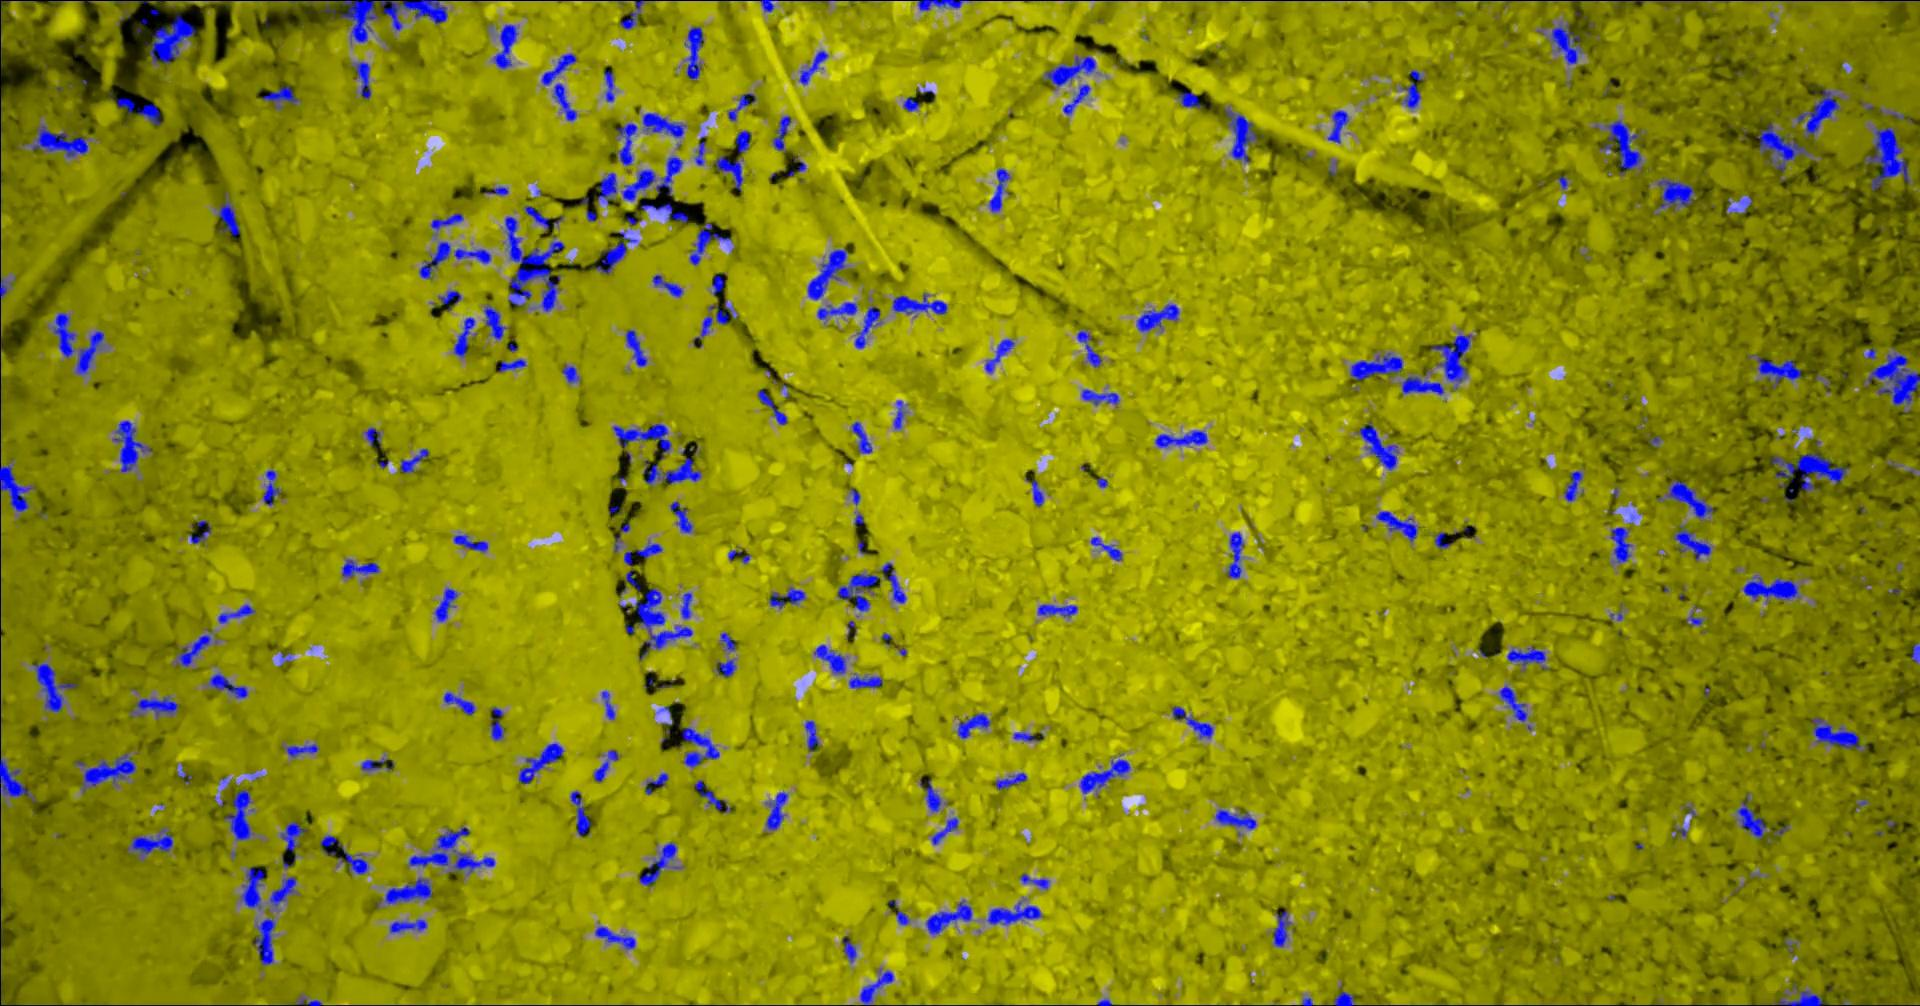ant: (1756, 121, 1810, 171), (418, 241, 490, 278), (72, 753, 135, 793), (541, 53, 577, 119), (1600, 119, 1641, 175), (1430, 334, 1470, 389), (32, 663, 77, 711), (1657, 479, 1713, 518), (1796, 88, 1839, 138), (692, 300, 737, 347), (612, 423, 670, 459), (808, 248, 848, 298), (1357, 420, 1398, 470), (112, 420, 151, 471), (637, 841, 681, 887), (1079, 754, 1130, 793), (1811, 716, 1867, 751), (30, 124, 88, 158), (690, 222, 731, 265), (596, 230, 637, 273), (0, 752, 36, 801), (518, 743, 563, 782), (1224, 108, 1256, 163), (1044, 56, 1095, 89), (837, 573, 880, 611), (0, 464, 34, 511), (924, 899, 971, 934), (643, 456, 700, 484), (681, 727, 719, 767), (223, 789, 253, 840), (1756, 354, 1801, 387), (1350, 352, 1402, 380), (1742, 575, 1799, 601), (1735, 793, 1766, 838), (985, 901, 1043, 925), (1672, 525, 1710, 560), (380, 876, 430, 903), (1171, 706, 1213, 738), (1375, 511, 1418, 541), (1550, 23, 1582, 64), (1656, 177, 1697, 208), (116, 97, 161, 124), (891, 293, 947, 316), (126, 828, 171, 856), (174, 631, 211, 666), (858, 968, 893, 1005), (491, 24, 518, 69), (1137, 304, 1178, 332), (693, 780, 730, 812), (253, 917, 276, 965), (621, 169, 655, 201), (984, 338, 1015, 373), (1498, 685, 1528, 721), (643, 112, 684, 137), (855, 306, 880, 348), (1506, 645, 1549, 669), (712, 155, 742, 191), (757, 389, 786, 424), (684, 25, 703, 79), (881, 561, 905, 603), (657, 156, 682, 196), (208, 673, 248, 699), (1215, 809, 1255, 835), (130, 696, 178, 716), (988, 166, 1010, 211), (799, 50, 827, 84), (240, 868, 263, 909), (640, 202, 687, 222), (1399, 69, 1423, 108), (1076, 330, 1101, 367), (594, 926, 635, 949), (813, 644, 844, 673), (615, 123, 636, 165), (570, 791, 590, 836), (338, 845, 368, 874), (1154, 431, 1208, 447), (216, 197, 239, 235), (764, 791, 787, 829), (1770, 989, 1827, 1005), (1062, 84, 1090, 114), (279, 821, 306, 852), (625, 329, 648, 366), (957, 713, 989, 738), (593, 749, 618, 781), (817, 302, 856, 323), (453, 318, 474, 357), (1401, 375, 1443, 394), (1090, 536, 1123, 560), (262, 86, 298, 108), (483, 305, 505, 339), (434, 587, 457, 621), (1227, 531, 1243, 578), (269, 876, 295, 907), (770, 587, 805, 608), (728, 93, 756, 119), (618, 0, 644, 29), (669, 500, 692, 532), (1610, 527, 1630, 563), (1327, 111, 1349, 144), (931, 817, 957, 843), (399, 448, 428, 473), (217, 605, 255, 622), (851, 420, 871, 453), (651, 274, 682, 296), (443, 692, 474, 714), (352, 61, 370, 98), (262, 469, 279, 506), (342, 559, 378, 577), (1272, 909, 1290, 946), (772, 116, 791, 150), (919, 779, 940, 810), (597, 171, 616, 205), (1081, 389, 1119, 405), (1563, 470, 1583, 500), (523, 205, 549, 229), (453, 533, 488, 551), (430, 212, 463, 230), (848, 673, 883, 688), (888, 899, 909, 923), (917, 0, 968, 10), (996, 772, 1026, 789), (1037, 605, 1077, 617), (644, 772, 667, 794), (283, 743, 317, 757), (389, 920, 425, 932), (189, 520, 210, 542), (804, 720, 819, 751), (1018, 873, 1048, 888), (319, 835, 340, 855), (490, 706, 503, 741), (636, 541, 662, 558), (601, 690, 615, 719), (1177, 91, 1201, 108), (842, 935, 856, 962), (893, 400, 905, 429), (603, 70, 615, 102), (715, 659, 735, 677), (497, 358, 524, 371), (735, 130, 750, 152), (787, 158, 805, 177), (1030, 479, 1043, 506), (719, 633, 737, 652), (361, 757, 387, 770), (561, 365, 578, 384), (438, 290, 460, 304), (695, 136, 705, 165), (625, 570, 640, 589), (1333, 991, 1354, 1005), (728, 550, 749, 563), (364, 427, 380, 445), (681, 592, 691, 619), (483, 185, 508, 196), (711, 274, 724, 295), (296, 995, 321, 1005), (1434, 532, 1450, 547), (902, 97, 919, 111), (1685, 611, 1703, 625), (1013, 732, 1041, 741), (0, 277, 11, 298), (759, 0, 777, 11), (1910, 643, 1919, 662)
